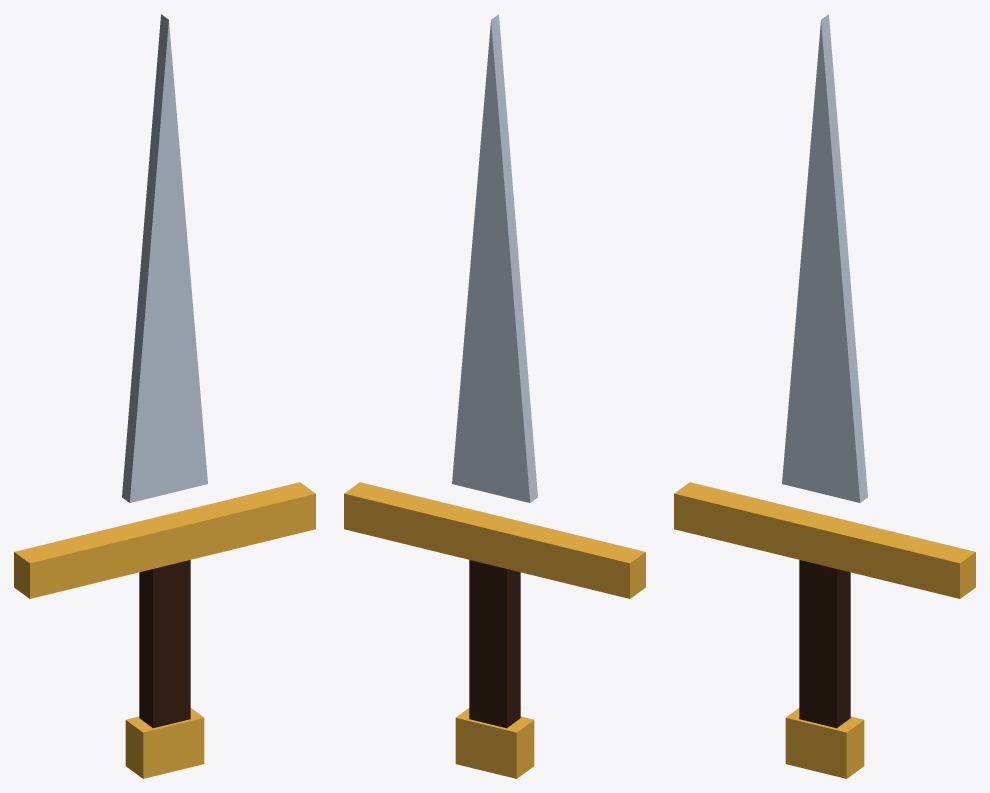
Rendered from sword.obj.
3 views of the same model, side by side, from view 1: azimuth 30°, elevation 25°; view 2: azimuth 150°, elevation 25°; view 3: azimuth 330°, elevation 25° (orthographic).
Parts seen in each view (by area): view 1: Blade, Guard, Handle, Pommel; view 2: Blade, Guard, Handle, Pommel; view 3: Blade, Guard, Handle, Pommel.
Part boxes in pixels (box(x1,y1,x2,y2)): Blade: box(122, 14, 207, 502); Guard: box(14, 482, 315, 598); Handle: box(139, 560, 190, 728); Pommel: box(125, 708, 204, 778); Blade: box(452, 14, 537, 502); Guard: box(344, 482, 645, 598); Handle: box(469, 560, 520, 728); Pommel: box(455, 708, 534, 778); Blade: box(782, 14, 867, 502); Guard: box(674, 482, 975, 598); Handle: box(799, 560, 850, 728); Pommel: box(785, 708, 864, 778).
Bounding box in the file's own units: 0.84 × 2.1 × 0.09.
